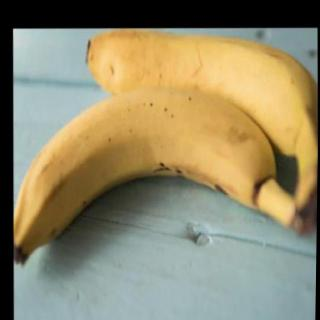banana: (10, 81, 278, 269), (83, 21, 320, 162)
